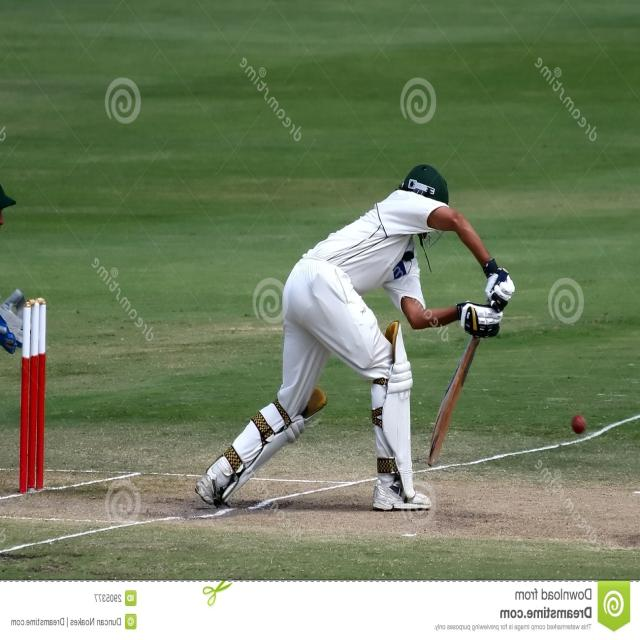ball: (568, 409, 587, 442)
stump: (16, 296, 48, 491)
